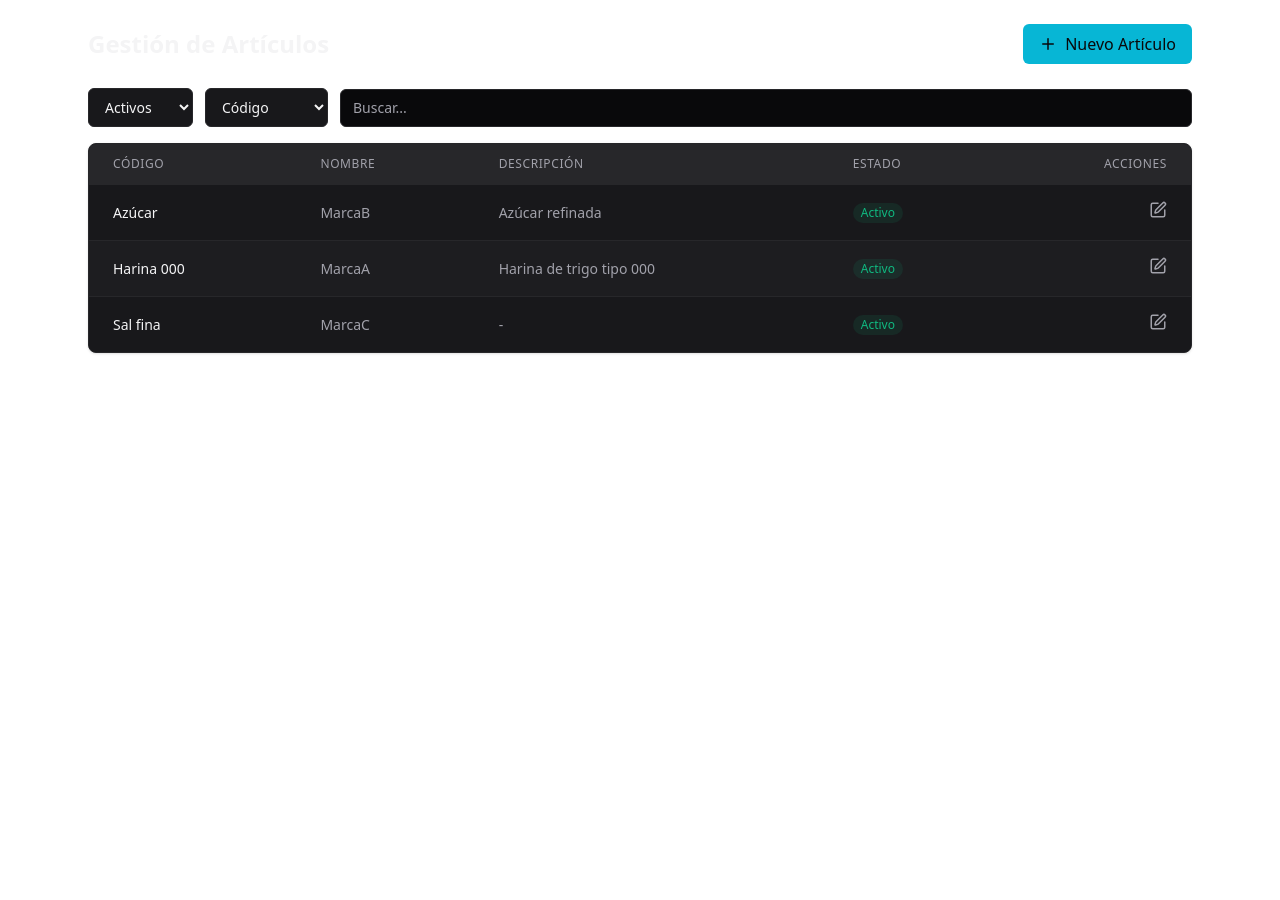
Test: ArticulosPage › "Activar Artículo" button is NOT visible when editing an active articulo
The width and height of the screenshot is (1280, 900).
Check: the text "Harina 000" is shown, box [89,240,296,296]
Click the button titled "Editar" in the row of "Harina 000" at (1158, 266), box [1149,257,1167,275]
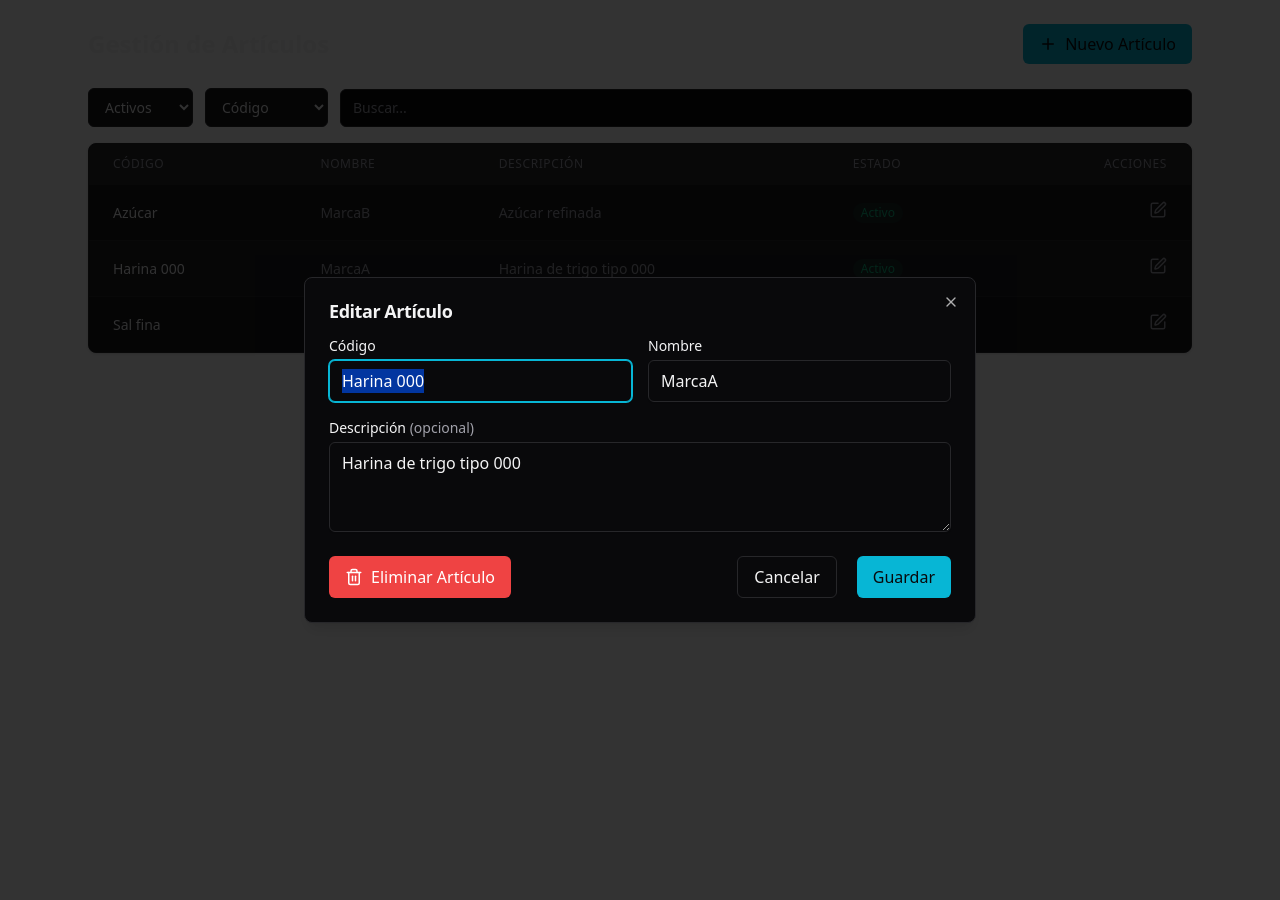
Check: the heading "Editar Artículo" is shown, box [329,299,452,323]
